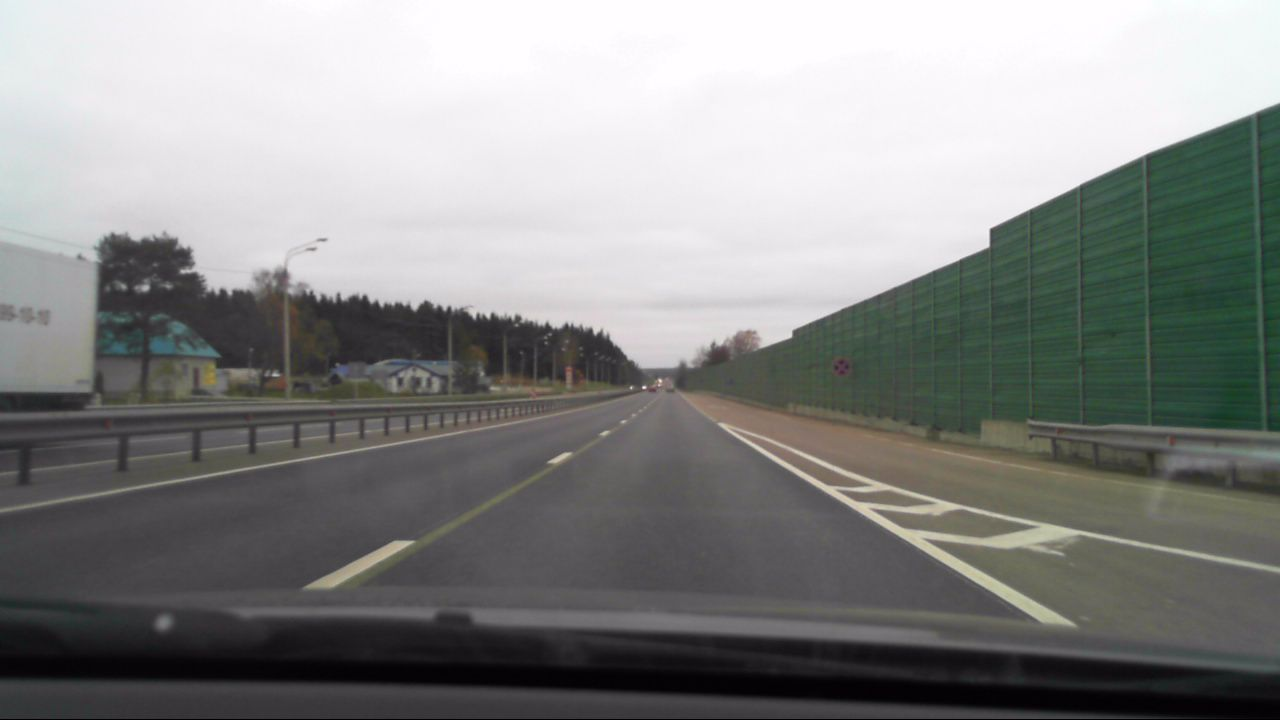No Parking: (833, 356, 853, 376)
